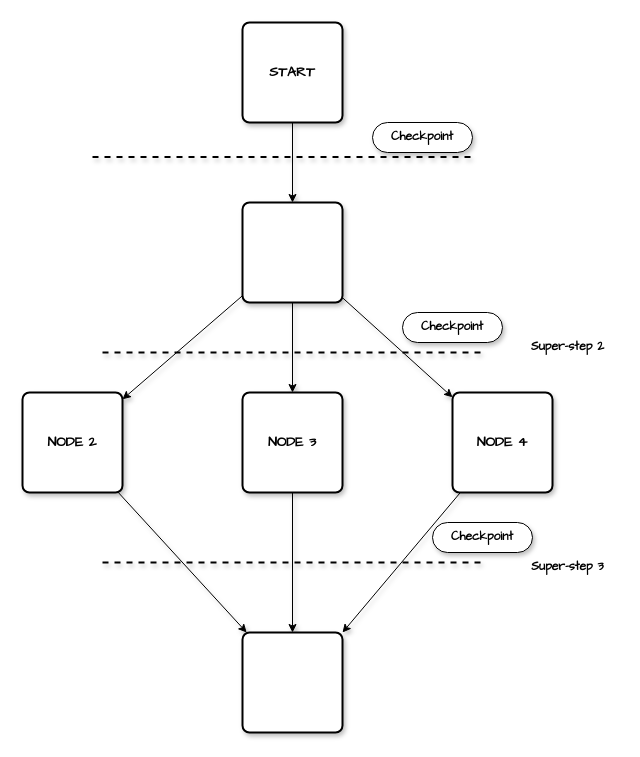
Image size: 640x757. Some labels were removed from this diagram. The centre of each missing label's shape, as x and y in pixels:
END: pixel 293 683
NODE 1: pixel 293 253
Super-step 1: pixel 528 158
